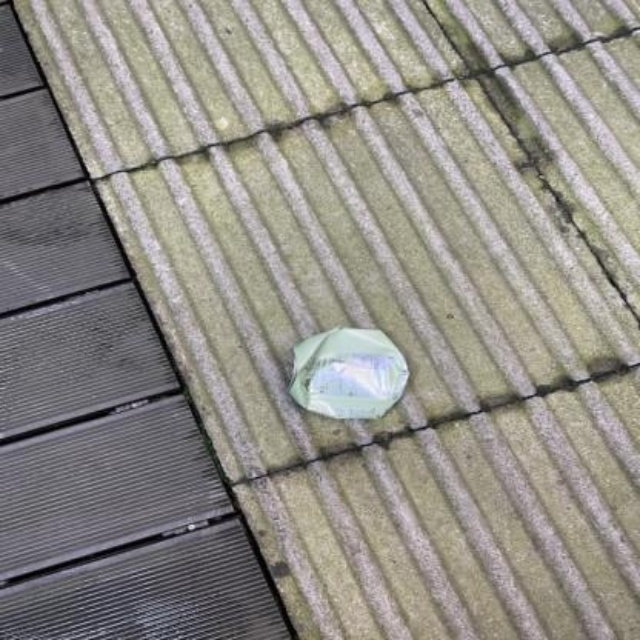trash: (289, 328, 408, 417)
